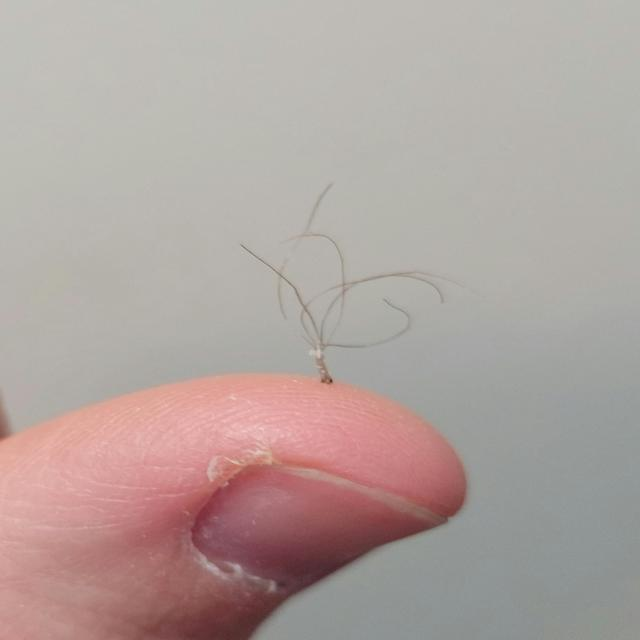hair: (237, 180, 458, 353)
